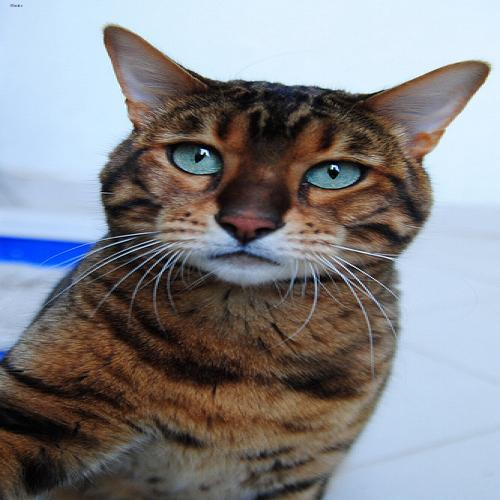bengal: (83, 21, 500, 295)
